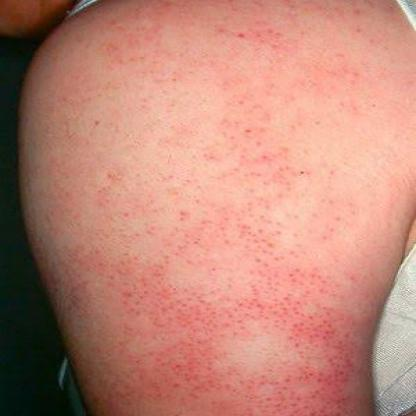Chicken Skin: (163, 284, 321, 336), (294, 310, 366, 416), (120, 260, 182, 350)
